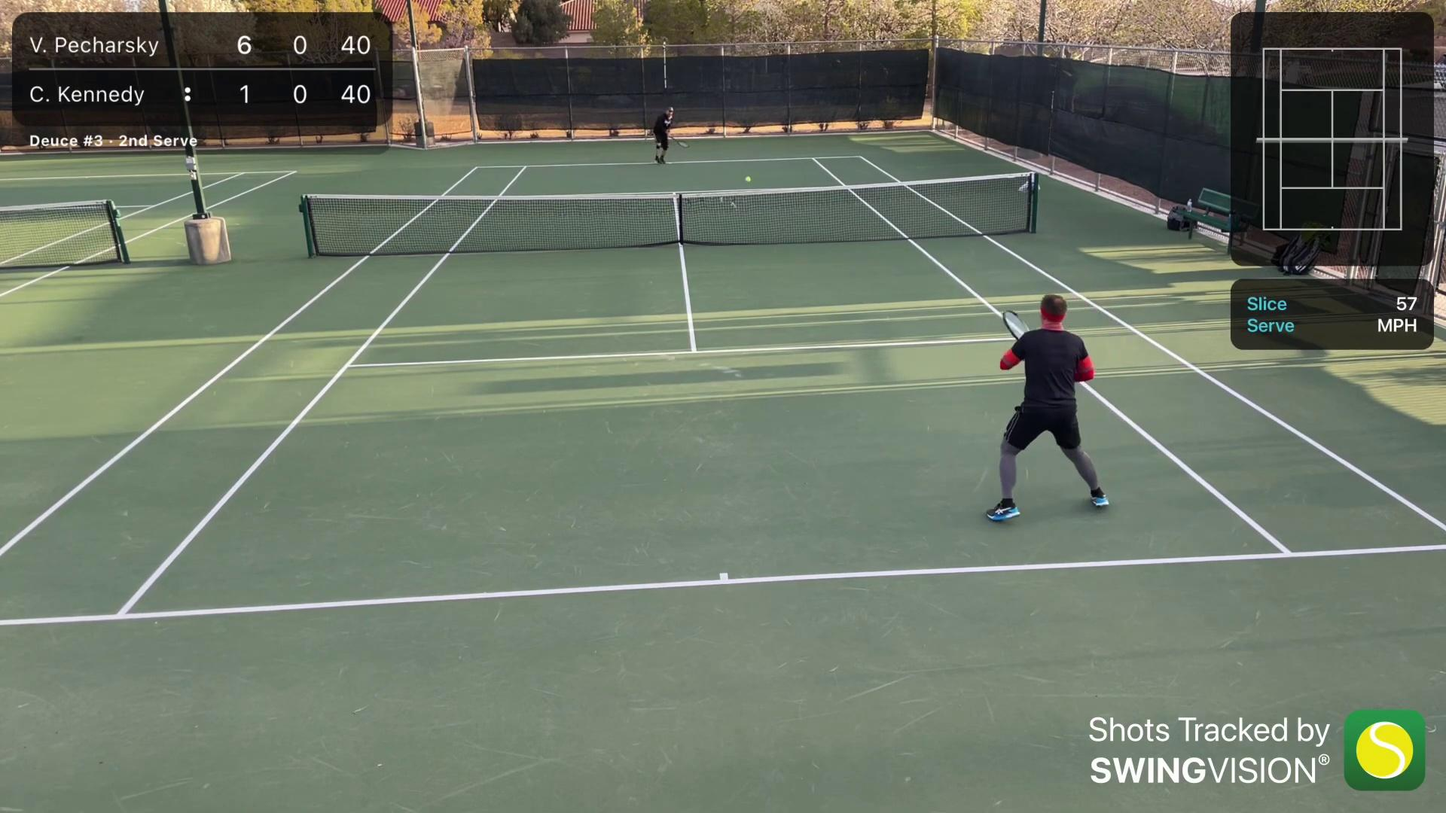ball: (744, 177, 752, 183)
